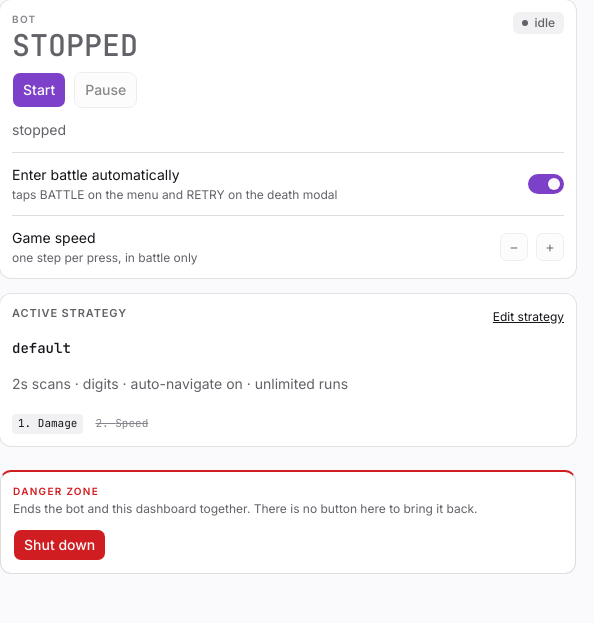
ControlPage › treats a 409 from Start as a refresh, not a red failure
This screenshot has width=594, height=623.
Click the button "Start".
click(39, 90)  # box [12,72,66,108]
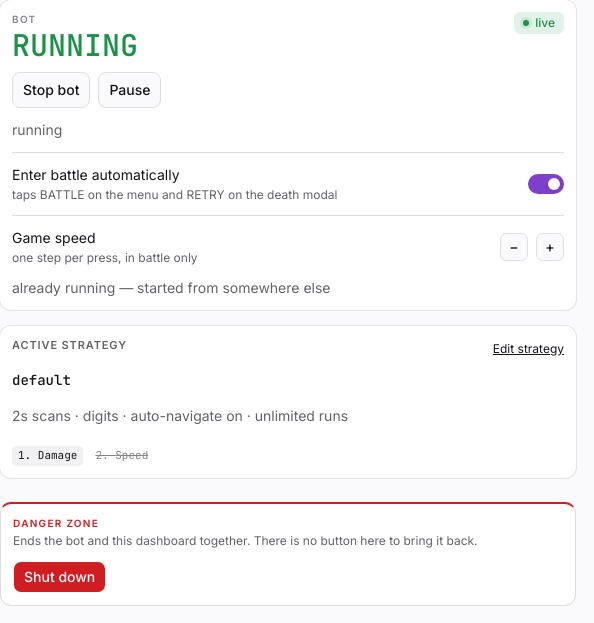
Check: the button "Stop bot" is shown, box [12,72,90,108]
Check: the text "already running — started from somewhere else" is shown, box [12,279,330,296]
